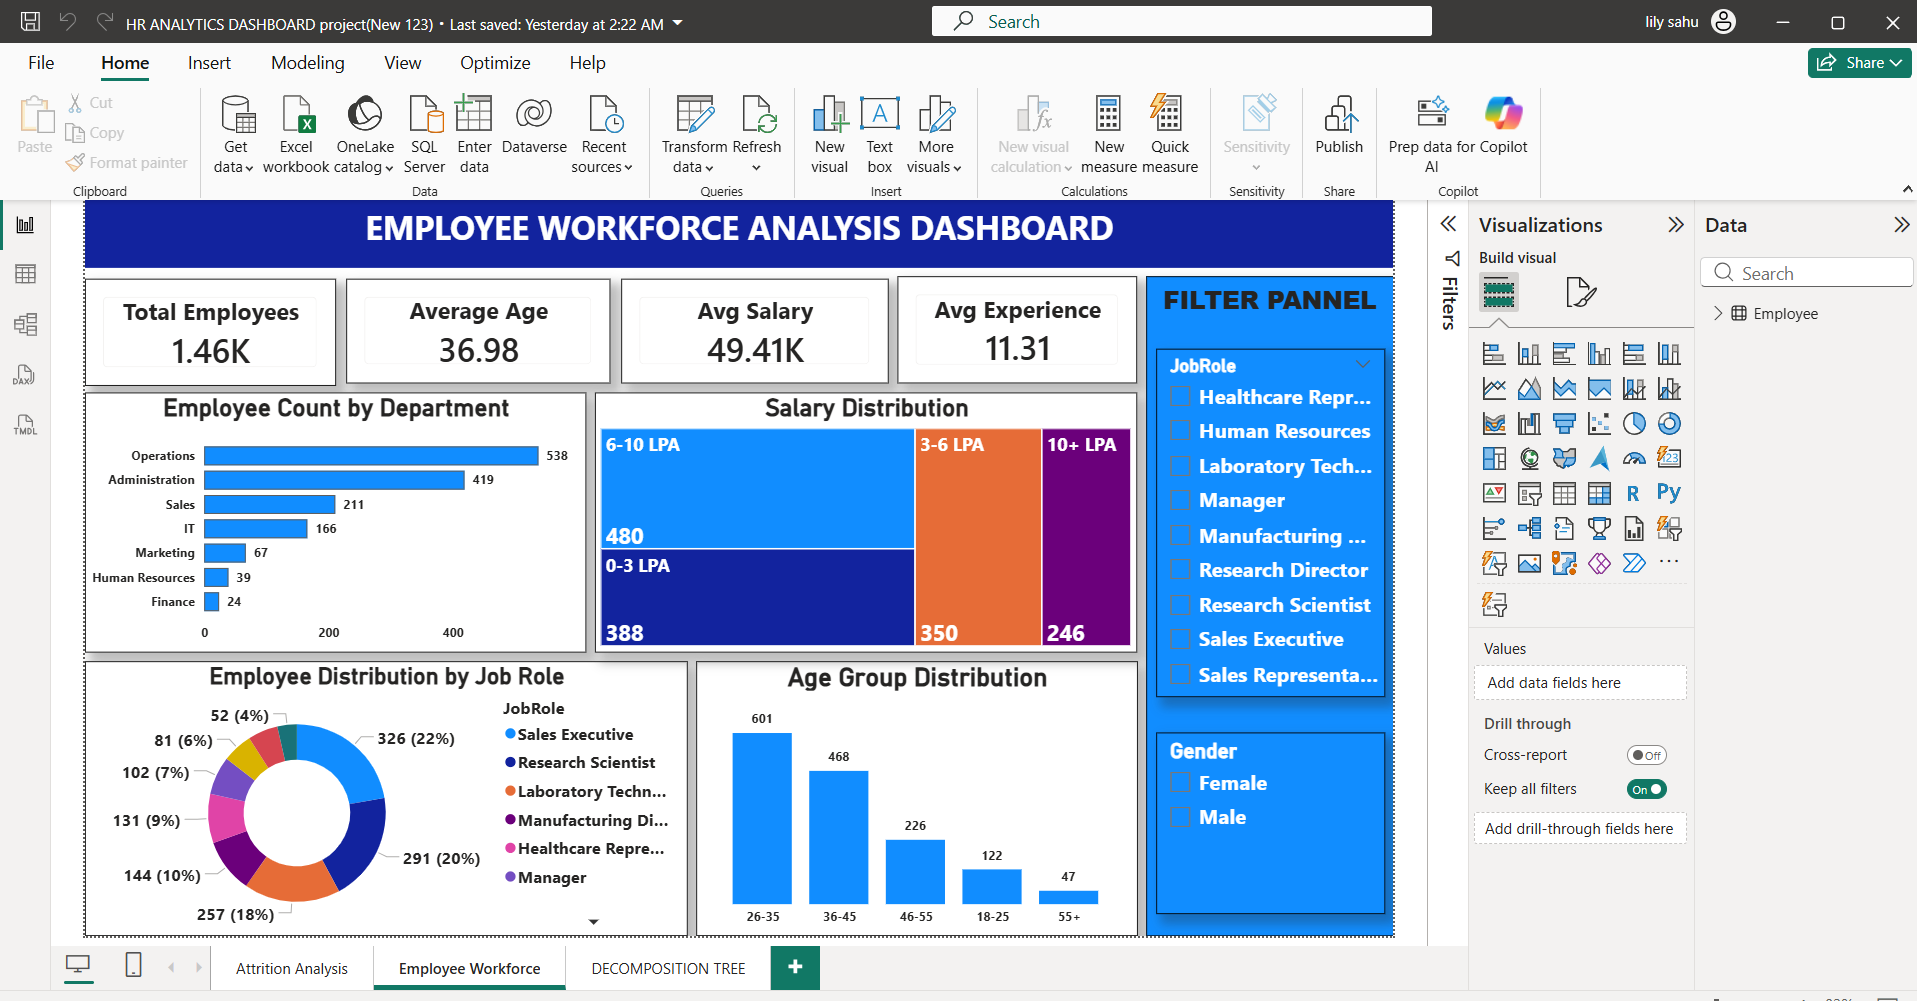

The page's visual inventory and layout, read from the dashboard file:
{"tool":"powerbi","page":{"name":"Employee Workforce","canvas":[1280,720],"ordinal":1},"visuals":[{"type":"textbox","box":[0,0,1280.3,66],"z":0},{"type":"cardVisual","fields":{"Data":["Employee.Total Employees"]},"box":[0,77,245.8,105.2],"z":1000},{"type":"cardVisual","fields":{"Data":["Employee.Average Age"]},"box":[255.6,77,258,102.7],"z":2000},{"type":"cardVisual","fields":{"Data":["Employee.Avg Salary"]},"box":[524.6,77,261.7,102.7],"z":3000},{"type":"cardVisual","fields":{"Data":["Employee.Avg Experience"]},"box":[794.8,74.6,234.8,105.2],"z":4000},{"type":"barChart","title":"Employee Count by Department","fields":{"Category":["Employee.Department"],"Y":["Sum(Employee.EmployeeCount)"]},"box":[0,188.3,490.4,254.3],"z":5000},{"type":"donutChart","title":"Employee Distribution by Job Role","fields":{"Category":["Employee.JobRole"],"Y":["Sum(Employee.EmployeeCount)"]},"box":[0,451.2,589.4,269],"z":6000},{"type":"clusteredColumnChart","title":"Age Group Distribution","fields":{"Y":["CountNonNull(Employee.EmployeeCount)"],"Category":["Employee.AgeGroup"]},"box":[598,451.2,431.7,269],"z":7000},{"type":"treemap","title":"Salary Distribution","fields":{"Group":["Employee.SalarySlab"],"Values":["Sum(Employee.EmployeeCount)"]},"box":[498.9,188.3,530.7,254.3],"z":8000},{"type":"textbox","box":[1038.2,74.6,242.1,645.7],"z":9000},{"type":"slicer","fields":{"Values":["Employee.JobRole"]},"box":[1048,145.5,223.8,341.2],"z":10000},{"type":"slicer","fields":{"Values":["Employee.Gender"]},"box":[1048,520.9,223.8,177.3],"z":11000}]}

Visuals, with their boxes on the page's 1280x720 design canvas (x1, y1, x2, y2). These are canvas units, not pixel positions in the 1917x1001 screenshot, which may show the page scaled, cropped or inside an application window:
textbox: bbox=(0, 0, 1280, 66)
cardVisual - Employee.Total Employees: bbox=(0, 77, 246, 182)
cardVisual - Employee.Average Age: bbox=(256, 77, 514, 180)
cardVisual - Employee.Avg Salary: bbox=(525, 77, 786, 180)
cardVisual - Employee.Avg Experience: bbox=(795, 75, 1030, 180)
"Employee Count by Department" barChart: bbox=(0, 188, 490, 443)
"Employee Distribution by Job Role" donutChart: bbox=(0, 451, 589, 720)
"Age Group Distribution" clusteredColumnChart: bbox=(598, 451, 1030, 720)
"Salary Distribution" treemap: bbox=(499, 188, 1030, 443)
textbox: bbox=(1038, 75, 1280, 720)
slicer - Employee.JobRole: bbox=(1048, 146, 1272, 487)
slicer - Employee.Gender: bbox=(1048, 521, 1272, 698)
